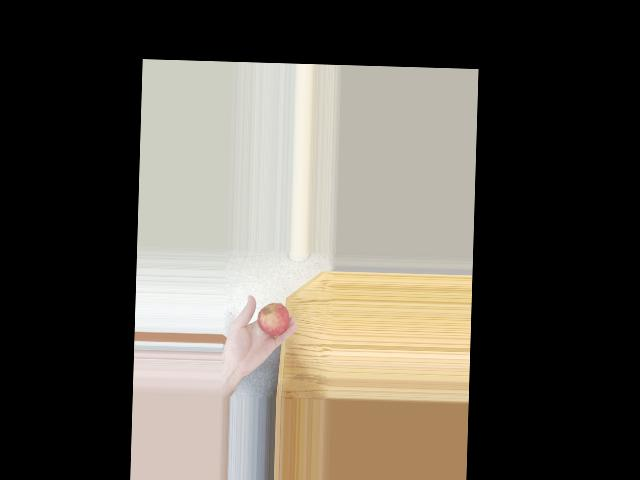apple: (254, 301, 291, 335)
